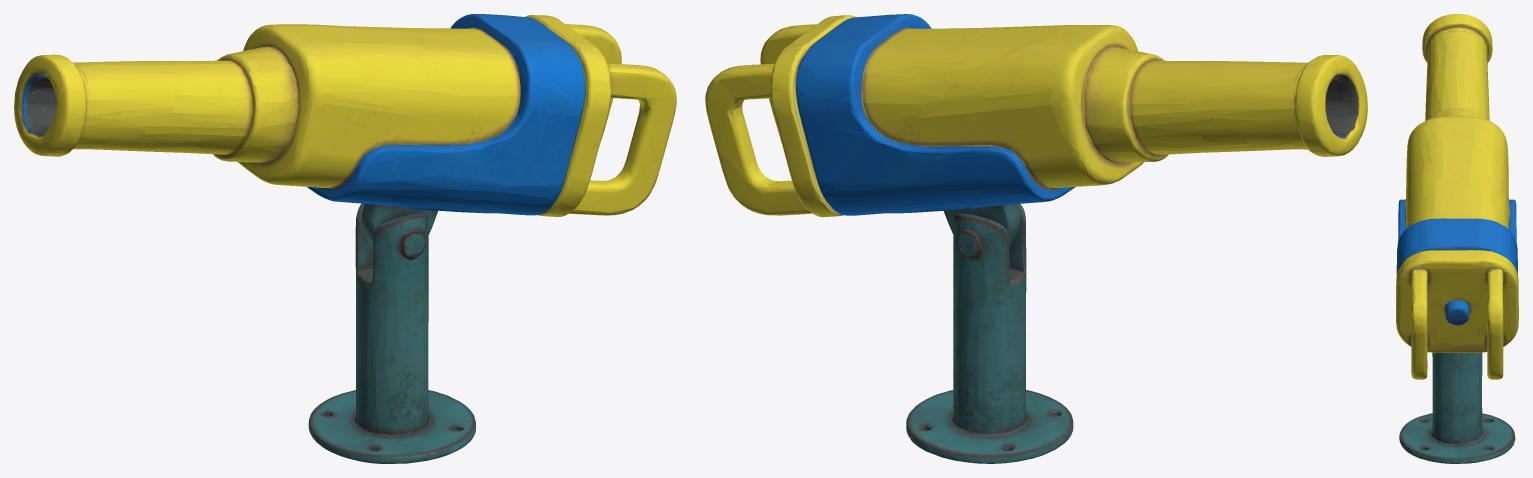
The model's file is cannoncino_acqua.glb.
3 views of the same model, side by side, from view 1: azimuth 30°, elevation 25°; view 2: azimuth 150°, elevation 25°; view 3: azimuth 270°, elevation 25° (orthographic). The views are drawn at different scales.
Parts seen in each view (by area): view 1: Mesh_0; view 2: Mesh_0; view 3: Mesh_0.
Part boxes in pixels (left/top/right/bottom): Mesh_0: left=14, top=14, right=676, bottom=463; Mesh_0: left=705, top=14, right=1367, bottom=463; Mesh_0: left=1396, top=14, right=1518, bottom=463.
Bounding box in the file's own units: 1.9 × 1.34 × 0.4763.
1 material, 1 textured.
